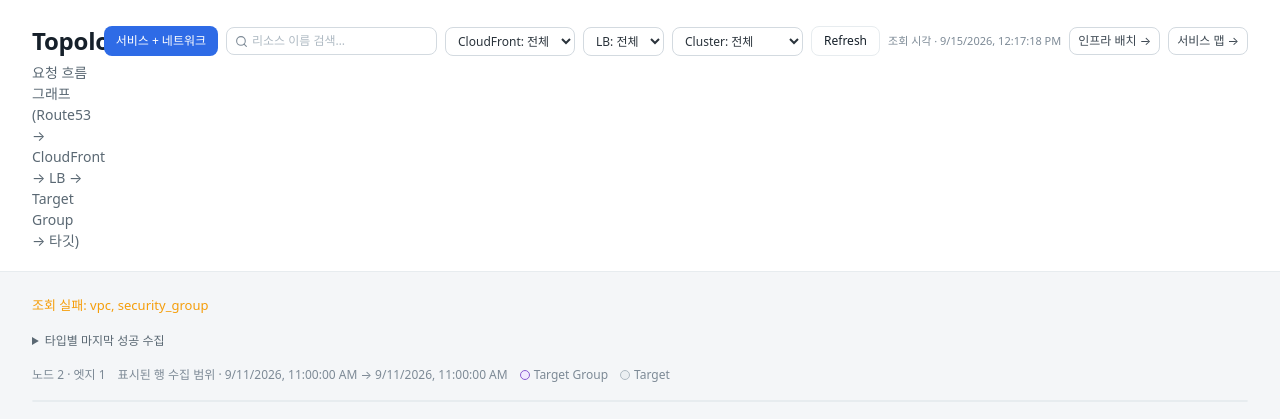
it: topology page URL and restored scope › discloses failed VPC and security-group enrichment while keeping the loaded graph
Expected: the button "서비스 + 네트워크" is shown, x1=104 y1=26 x2=218 y2=56
Expected: the message reads "조회 실패: vpc, security_group", x1=90 y1=296 x2=208 y2=314
Type "tg-orders" into the field with placeholder "리소스 이름 검색…".
click(340, 41); type("tg-orders")  # box x1=252 y1=32 x2=428 y2=50
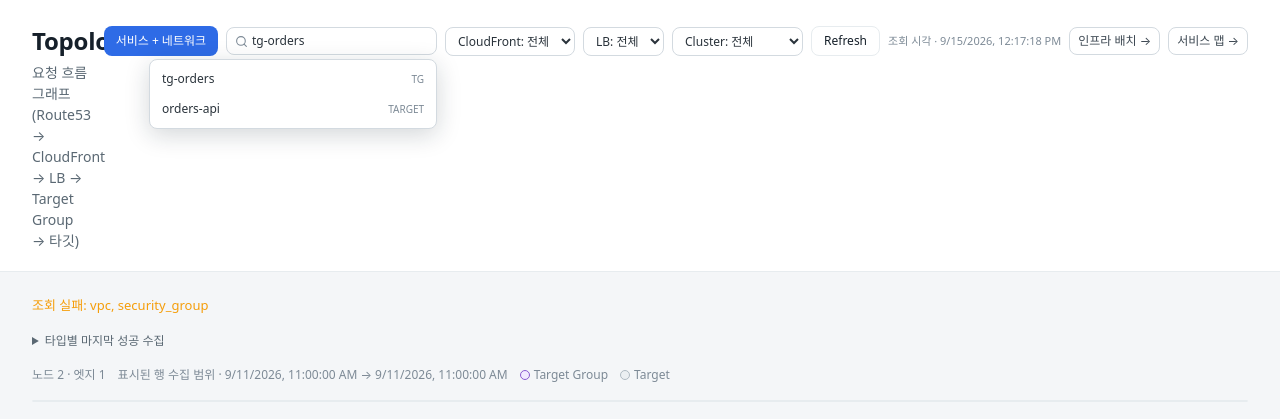
Result: the button "tg-orders tg" is shown at x1=150 y1=64 x2=436 y2=94
